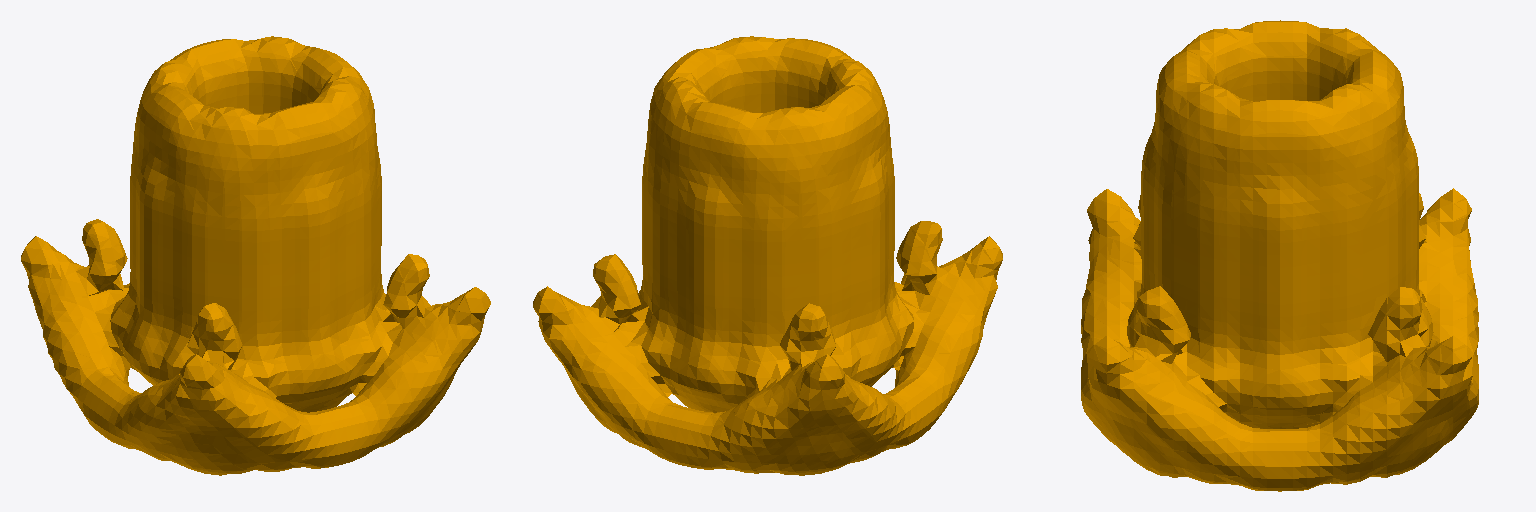
robot.urdf — G19_3:
<?xml version="1.0"?>
<robot name="G19_3">
  <link name="base_link">
    <visual>
      <geometry>
        <mesh filename="../../../../meshes/egad/train/G19_3.obj" />
      </geometry>
    </visual>
  </link>
</robot>

--- What the picture shows (computed from the rendered views, not written in the file) ---
The picture shows the robot from 3 angles, left to right: view 1: azimuth 30°, elevation 25°; view 2: azimuth 150°, elevation 25°; view 3: azimuth 270°, elevation 25°; orthographic projection.
Model G19_3 with 1 links and 0 joints (none), rooted at base_link, posed all joints at 0.
Links seen in each view (by area): view 1: base_link; view 2: base_link; view 3: base_link.
Link boxes in pixels (<box>): base_link: <box>21,36,490,475</box>; base_link: <box>533,36,1002,475</box>; base_link: <box>1081,20,1478,491</box>.
Size in the robot's own frame: 0.0603 by 0.0603 by 0.06 metres.
1 mesh visuals loaded from 1 distinct referenced files (1 OBJ).